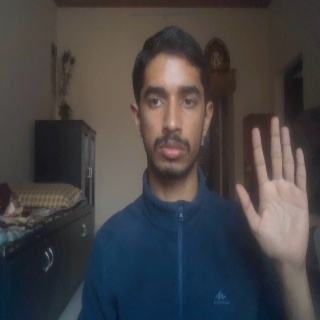Face: (126, 24, 216, 184)
Hello: (233, 113, 313, 269)
